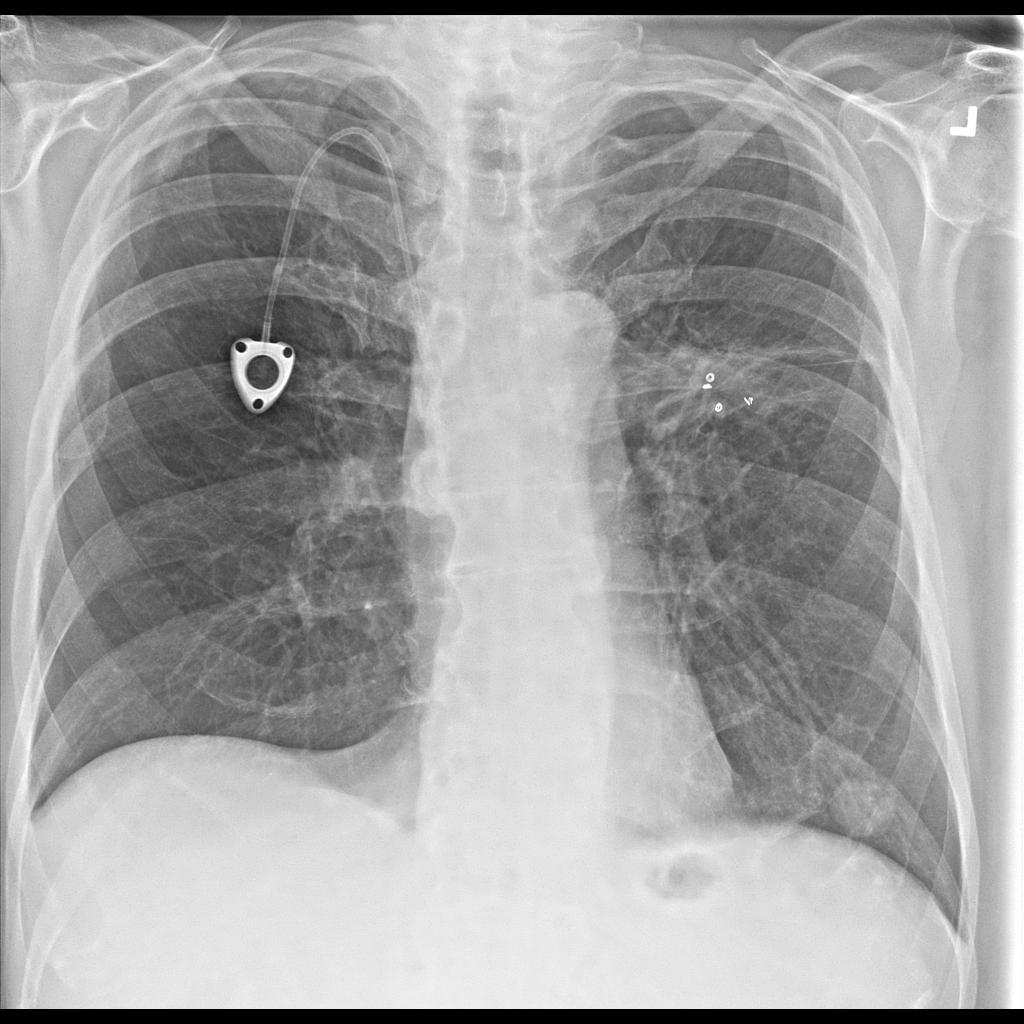Nodule: (811, 765, 913, 855)
